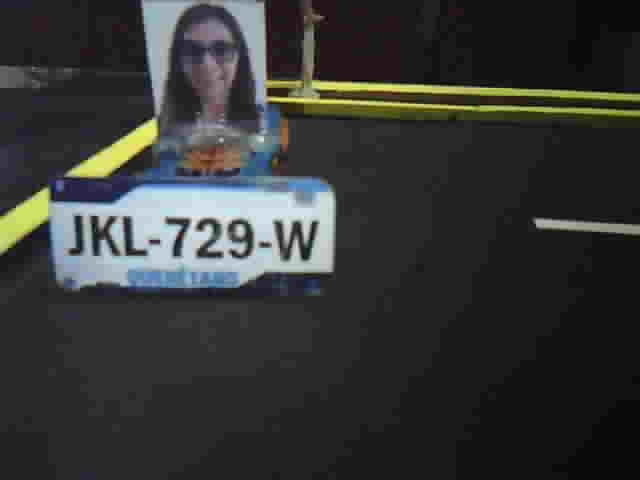PLACA: (46, 174, 339, 301)
ROSTRO: (157, 4, 266, 138)
